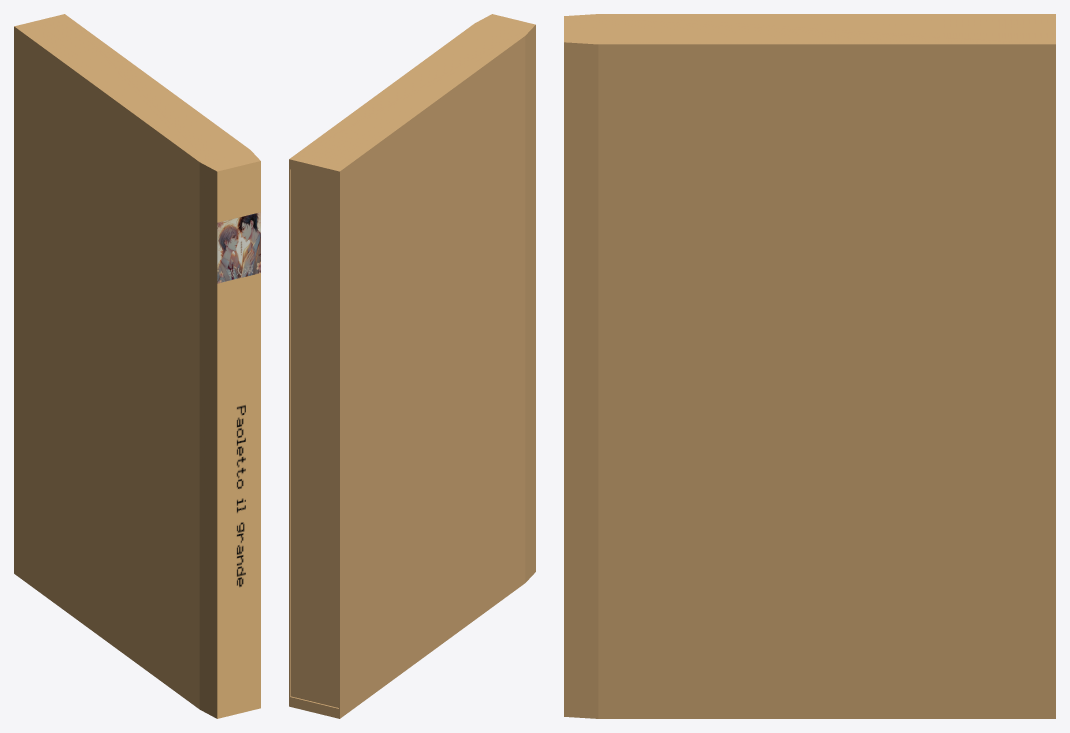
Rendered from manga3.fbx.
3 renders of one model, left to right at view 1: azimuth 30°, elevation 25°; view 2: azimuth 150°, elevation 25°; view 3: azimuth 270°, elevation 25°, orthographic. The views are drawn at different scales.
Visible parts, largest first — view 1: Cube; view 2: Cube; view 3: Cube.
Part boxes in pixels (<box>): Cube: <box>14,14,260,718</box>; Cube: <box>289,14,535,718</box>; Cube: <box>564,14,1055,718</box>.
Size of the model in its own units: 19.38 by 200 by 132.
3 materials, 2 textured.
